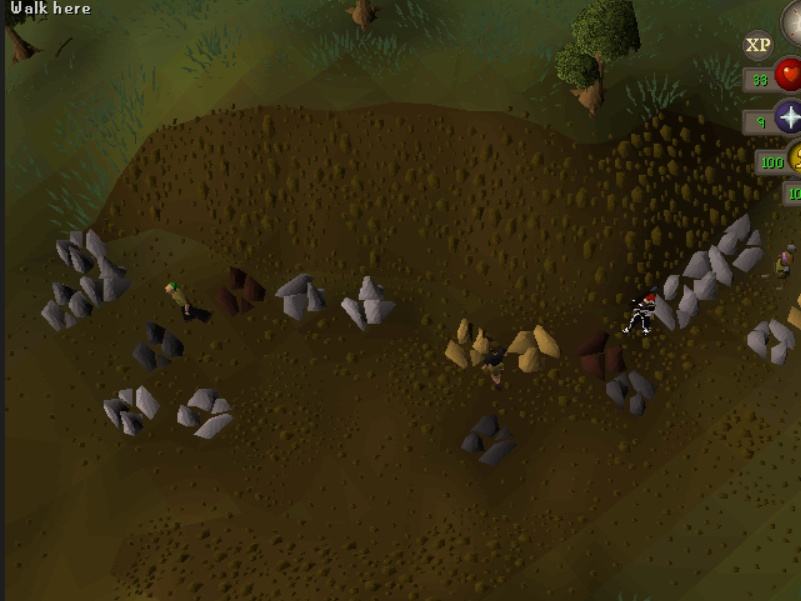clay: (438, 318, 498, 368), (507, 324, 567, 374)
iron: (212, 265, 272, 315), (570, 332, 630, 382)
silver: (100, 385, 160, 435), (175, 388, 235, 438), (337, 278, 397, 328)
tin: (37, 280, 97, 330), (51, 222, 111, 272), (76, 257, 136, 307), (272, 270, 332, 320), (712, 220, 772, 270), (675, 248, 735, 298), (643, 277, 703, 327), (738, 315, 798, 365)
